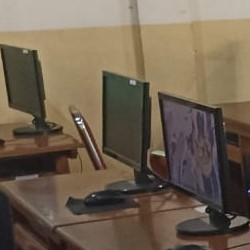monitor: (156, 90, 238, 218), (101, 70, 151, 176), (0, 44, 47, 126)
